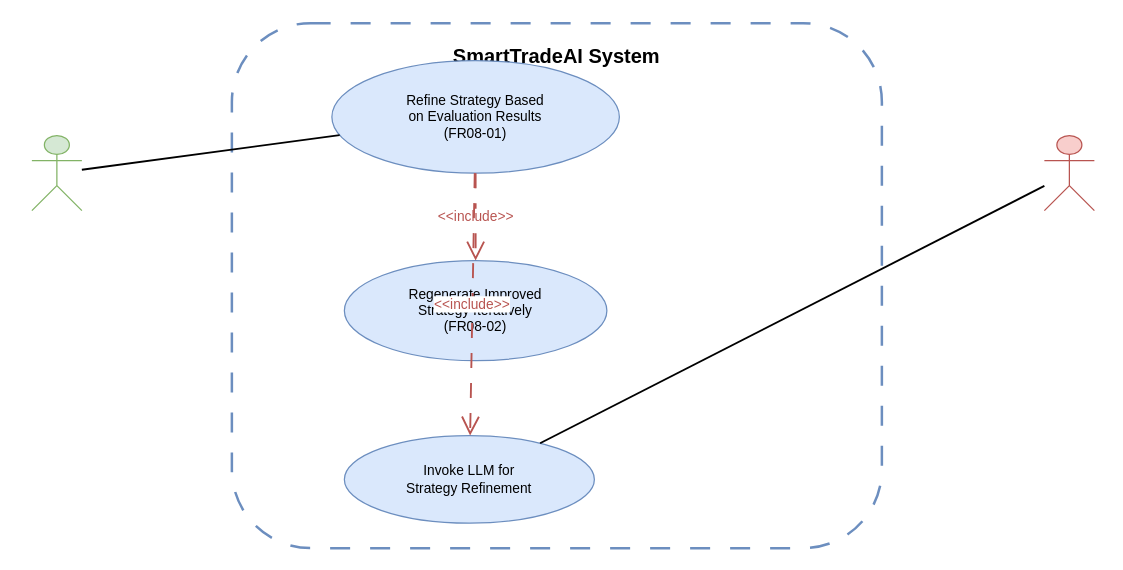
The diagram is 1123 pixels wide and 570 high, and some of its shapes have lost their labels. The shapes that lost their labels are listed below. From the top down, each one's centre as x and y in pixels, then its label:
the point at 56,172: Evaluation Agent
the point at 1068,172: LLM API (External)
